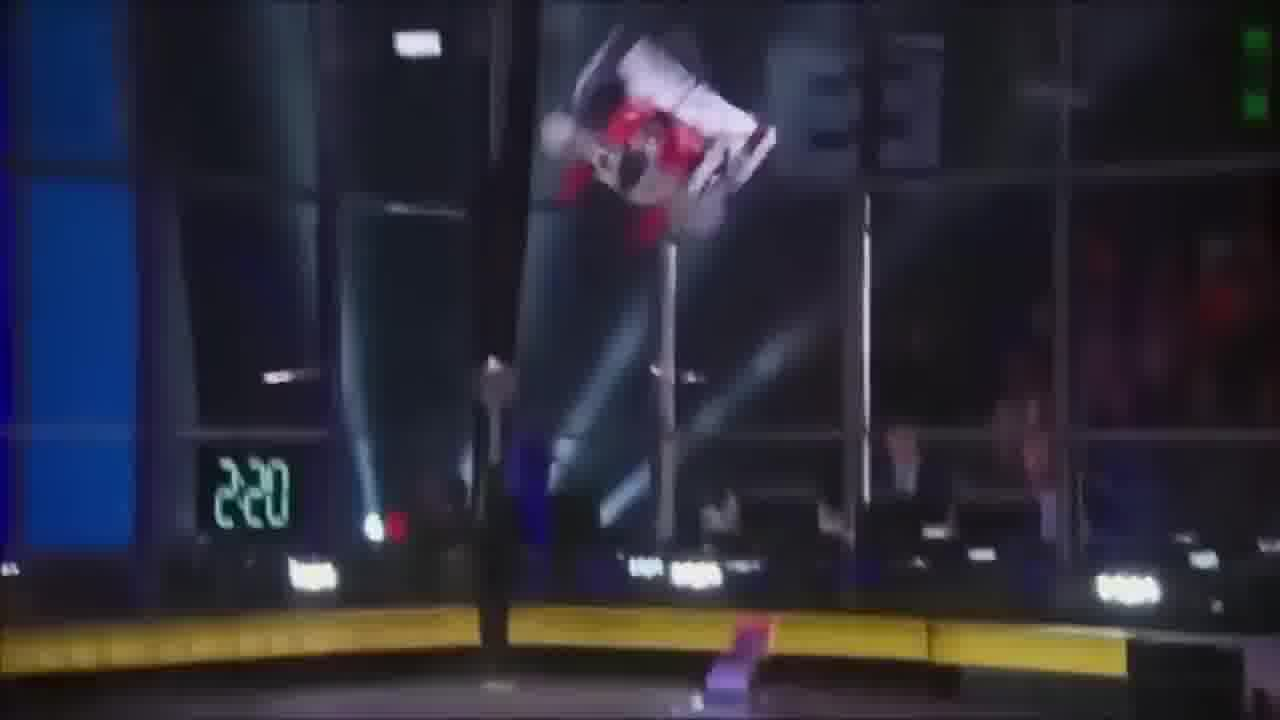combatbot: (534, 17, 782, 230), (655, 618, 833, 720)
